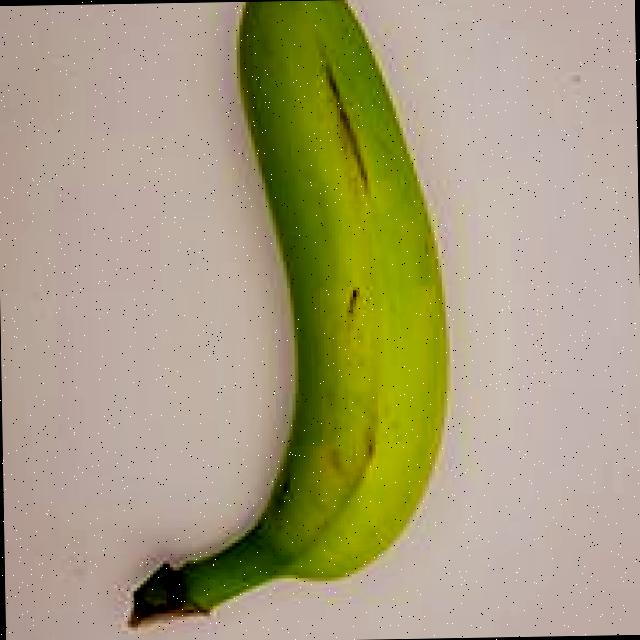Unripe: (94, 0, 520, 630)
